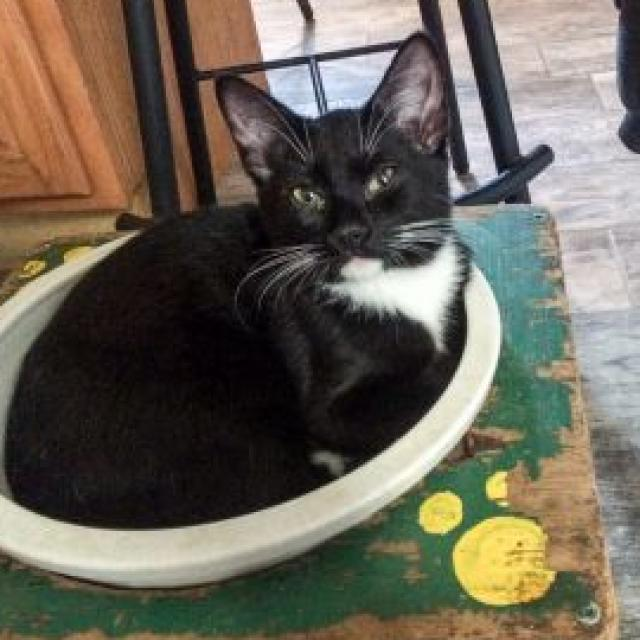Tuxedo: (0, 26, 474, 531)
